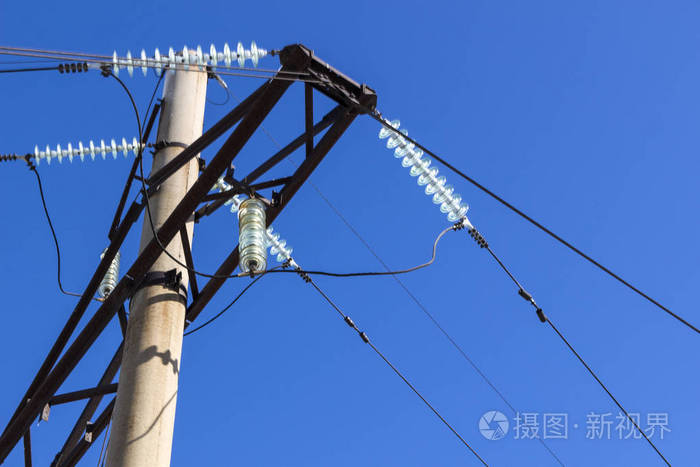insulator: (378, 120, 472, 220), (109, 38, 263, 81), (217, 181, 295, 263), (33, 134, 142, 168), (238, 195, 269, 279), (99, 251, 121, 300)
